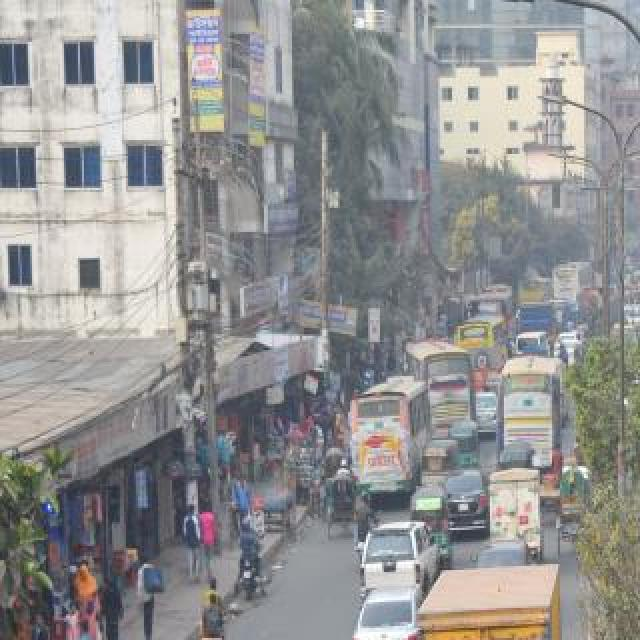bus: (351, 375, 429, 501), (406, 339, 476, 437), (499, 356, 561, 462), (472, 294, 518, 334), (552, 261, 594, 299), (518, 278, 554, 304)
car: (360, 519, 442, 589), (352, 584, 422, 640), (448, 465, 490, 533), (474, 540, 538, 576), (477, 393, 497, 433), (555, 333, 577, 353), (622, 302, 640, 326)
motorbike: (237, 515, 265, 603), (351, 491, 379, 551), (558, 343, 570, 371)
truck: (468, 345, 504, 383)
van: (420, 564, 570, 640), (490, 468, 548, 554), (519, 302, 555, 336), (563, 302, 589, 332), (517, 333, 549, 355), (612, 324, 636, 346)
